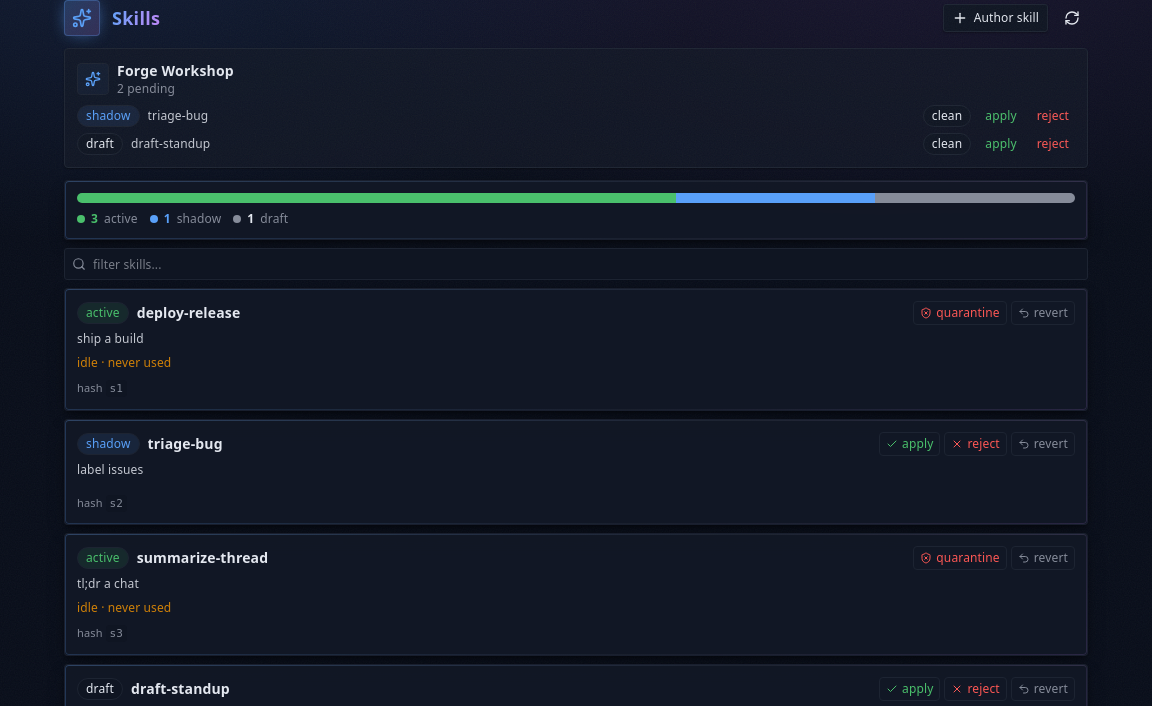
Test: Skills filter (M778) › filters skill cards with a count once there are more than four
Expected: the text "1/5" is not shown
Type "shadow" into the field labelled "filter skills".
click(576, 264); type("shadow")  # box [64,248,1088,280]
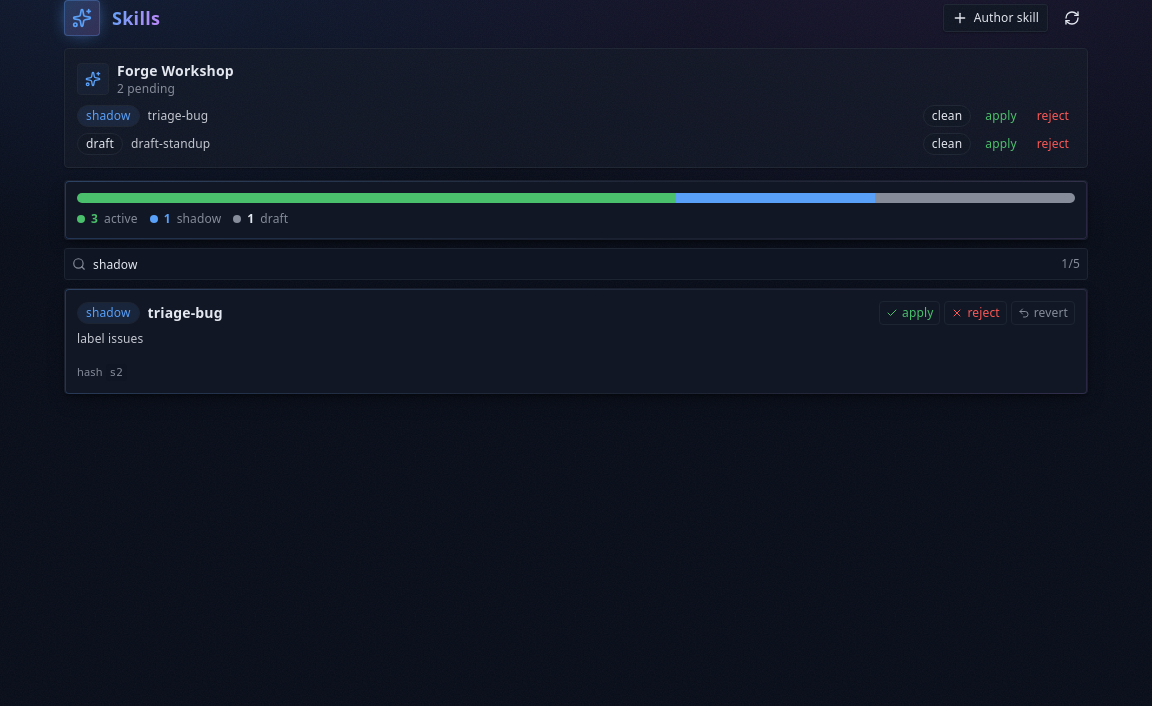
Expected: the text "1/5" is shown, [1061,256,1080,272]
Replace the text in the field named "filter skills" with "zzz" at (576,264), box [64,248,1088,280]
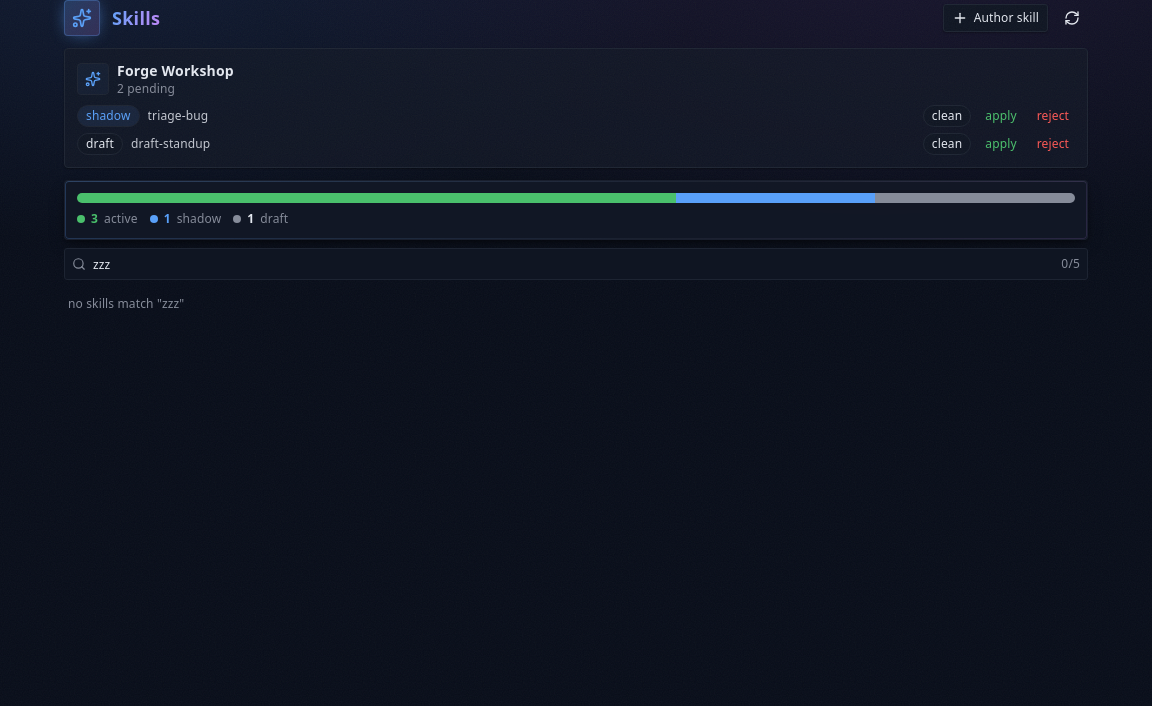
Expected: the text "no skills match \"zzz\"" is shown, [68,295,184,312]
